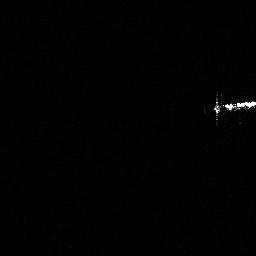ship: (209, 90, 256, 124)
